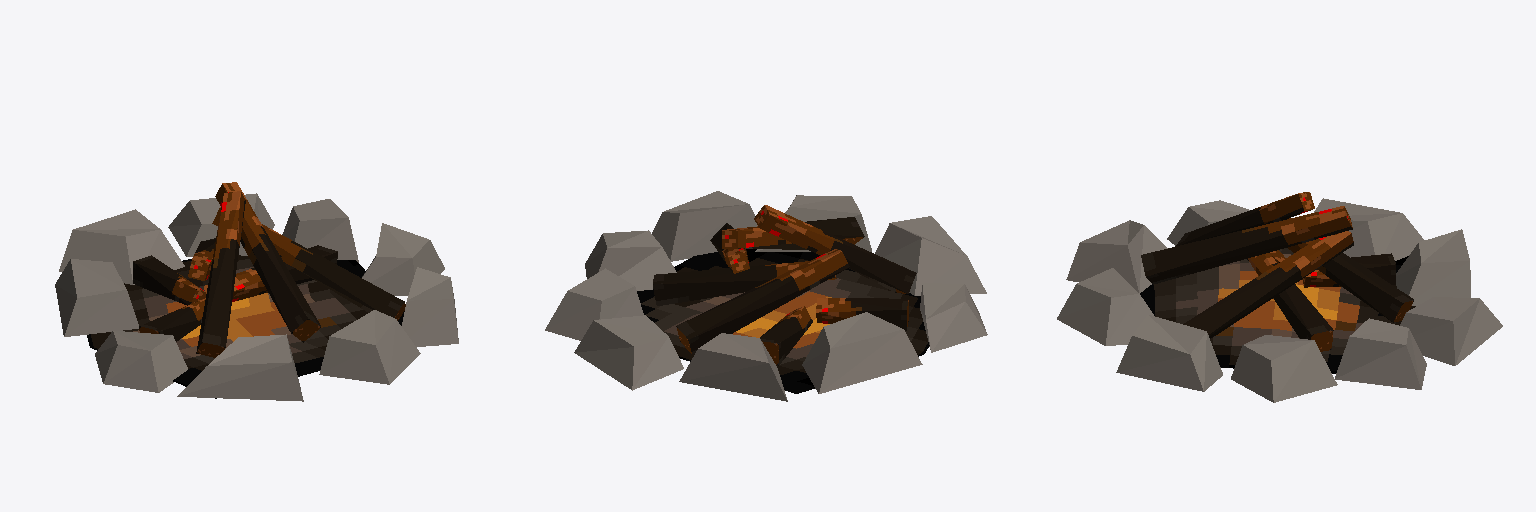
3 renders of one model, left to right at view 1: azimuth 30°, elevation 25°; view 2: azimuth 150°, elevation 25°; view 3: azimuth 270°, elevation 25°, orthographic.
Visible parts, largest first — view 1: polygon0; view 2: polygon0; view 3: polygon0.
Part boxes in pixels (x1,y1,x2,y2): polygon0: (55,182,458,401); polygon0: (545,191,987,401); polygon0: (1057,192,1502,402).
Bounding box in the file's own units: 2.52 × 0.7715 × 2.61.
1 materials, 1 textured.